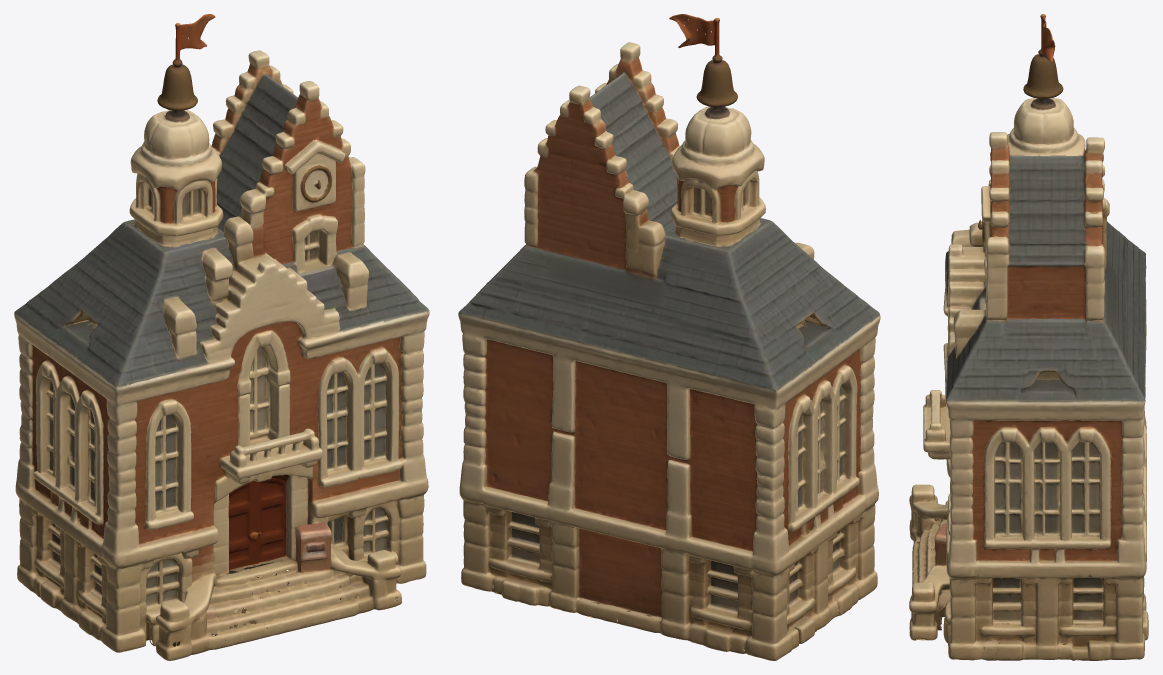
Rendered from cityhall_00002.glb.
3 views of the same model, side by side, from view 1: azimuth 30°, elevation 25°; view 2: azimuth 150°, elevation 25°; view 3: azimuth 270°, elevation 25° (orthographic). The views are drawn at different scales.
Bounding box in the file's own units: 0.5796 × 1 × 0.3918.
1 material, 1 textured.
